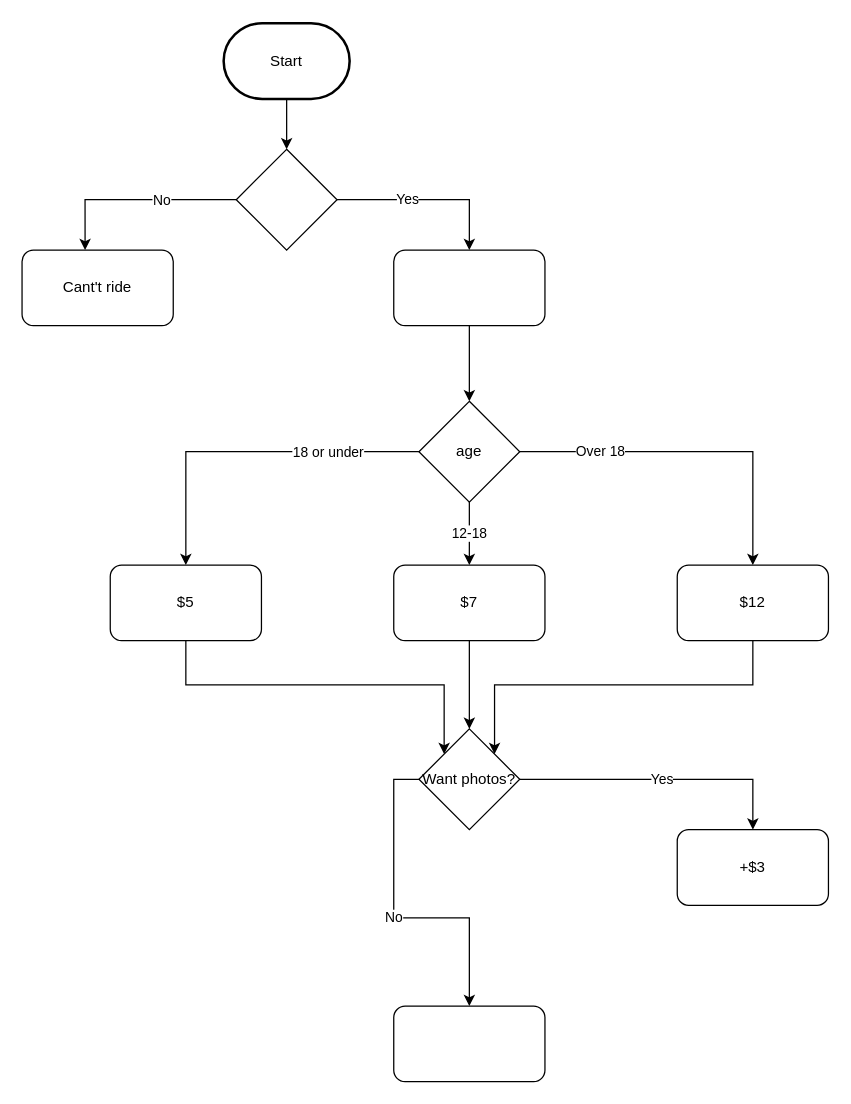
Image size: 851x1104. Some labels were removed from this diagram. The shapes that lost their labels are listed below. From the top down, each one's centre as x and y in pixels, then its label:
the point at 286,199: Height >= 120cm?
the point at 468,287: Can ride
the point at 468,1043: Total bill $x
